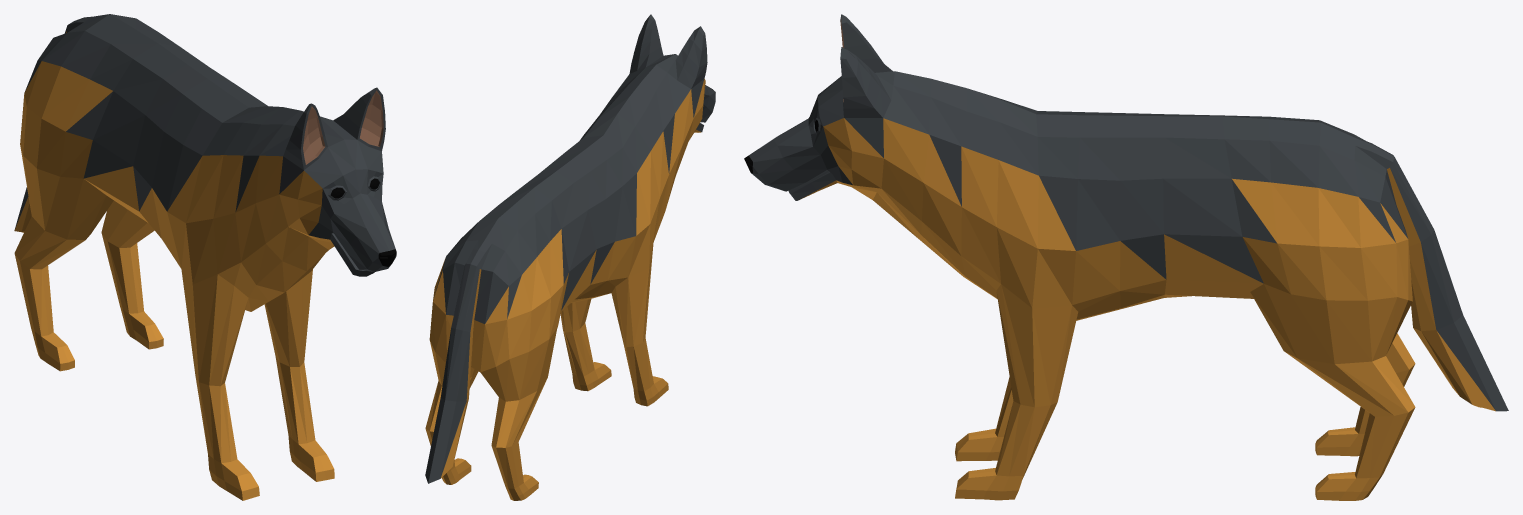
The model's file is dog.fbx.
The picture shows the model from 3 angles, left to right: view 1: azimuth 30°, elevation 25°; view 2: azimuth 150°, elevation 25°; view 3: azimuth 270°, elevation 25°; orthographic projection. The views are drawn at different scales.
Visible parts, largest first — view 1: 25dogFinal; view 2: 25dogFinal; view 3: 25dogFinal.
Part boxes in pixels (box(x1,y1,x2,y2)): 25dogFinal: box(14, 14, 396, 500); 25dogFinal: box(425, 14, 715, 500); 25dogFinal: box(744, 14, 1508, 500).
Size of the model in its own units: 40.91 by 121 by 188.
